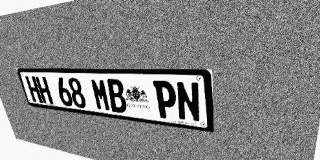6: (54, 77, 74, 107)
8: (67, 77, 87, 108)
B: (106, 79, 128, 114)
H: (35, 76, 54, 104), (25, 76, 43, 103)
M: (90, 78, 112, 112)
N: (175, 81, 201, 123)
P: (153, 80, 178, 120)
